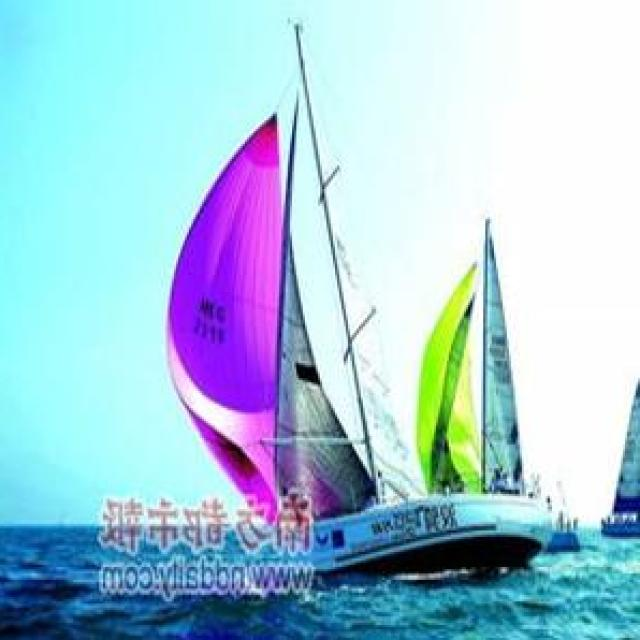sailboat: (162, 121, 548, 571)
